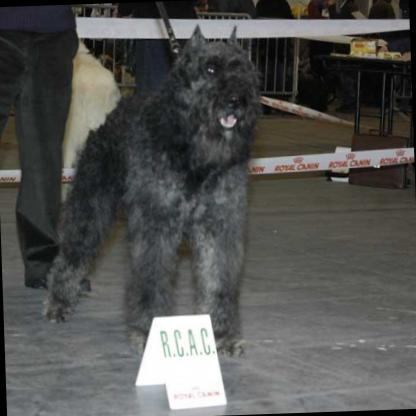Bouvier_des_Flandres: (30, 22, 270, 364)
